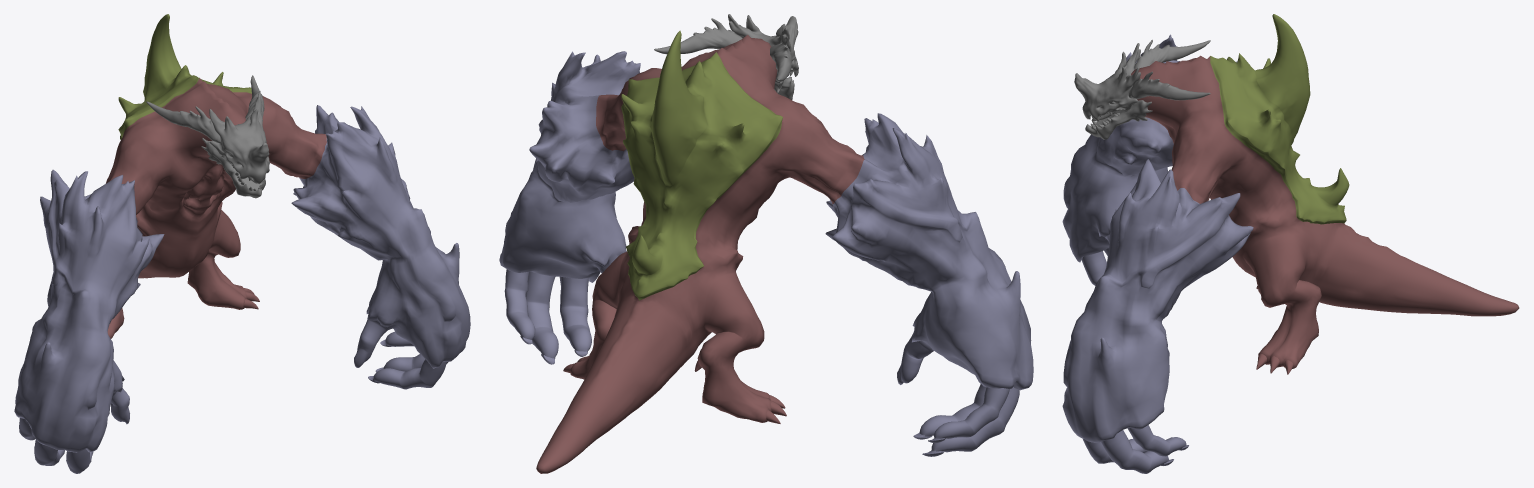
The model's file is Advanced Monster Modeling Low 2.fbx.
3 views of the same model, side by side, from view 1: azimuth 30°, elevation 25°; view 2: azimuth 150°, elevation 25°; view 3: azimuth 270°, elevation 25° (orthographic). The views are drawn at different scales.
Parts seen in each view (by area): view 1: Object008; view 2: Object008; view 3: Object008.
Part boxes in pixels (x1,y1,x2,y2): Object008: (14,14,470,473); Object008: (499,14,1033,473); Object008: (1062,14,1519,473).
Size of the model in its own units: 427 by 338 by 379.
